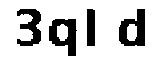3: (11, 4, 43, 53)
I: (83, 5, 105, 51)
d: (116, 3, 151, 51)
q: (48, 14, 83, 60)
